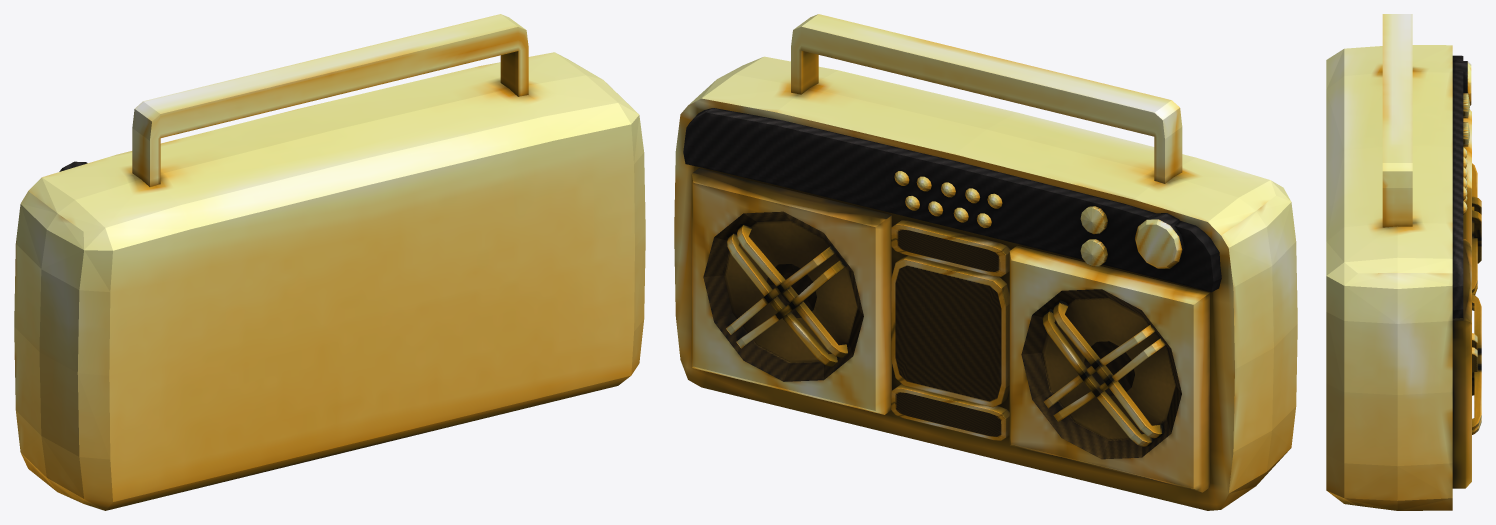
Rendered from boombox.obj.
3 renders of one model, left to right at view 1: azimuth 30°, elevation 25°; view 2: azimuth 150°, elevation 25°; view 3: azimuth 270°, elevation 25°, orthographic. The views are drawn at different scales.
Visible parts, largest first — view 1: Mesh; view 2: Mesh; view 3: Mesh.
Part boxes in pixels (x1=…): Mesh: x1=14, y1=14, x2=645, y2=510; Mesh: x1=674, y1=14, x2=1297, y2=510; Mesh: x1=1326, y1=14, x2=1481, y2=510.
Size of the model in its own units: 0.7185 by 0.4331 by 0.1942.
Materials: 1 (1 with a texture image).
